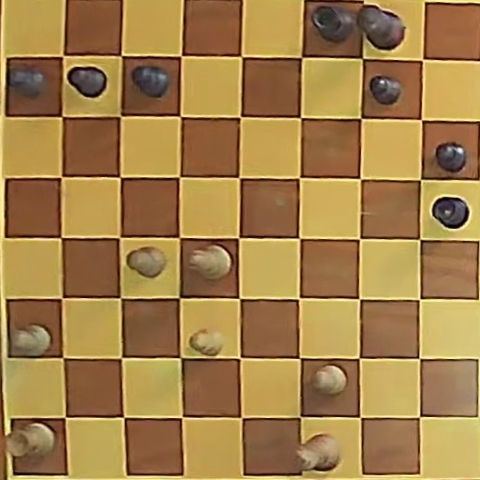black-king: (357, 5, 405, 50)
black-pawn: (131, 65, 170, 98), (68, 66, 107, 98), (9, 67, 45, 98), (370, 76, 402, 105), (435, 143, 466, 172)
black-rook: (312, 4, 355, 43), (431, 197, 469, 230)
white-bishop: (189, 244, 232, 280)
white-king: (298, 434, 340, 471)
white-pawn: (10, 324, 51, 356), (127, 247, 166, 278), (313, 364, 347, 395), (190, 329, 224, 356)
white-rook: (7, 422, 56, 459)
